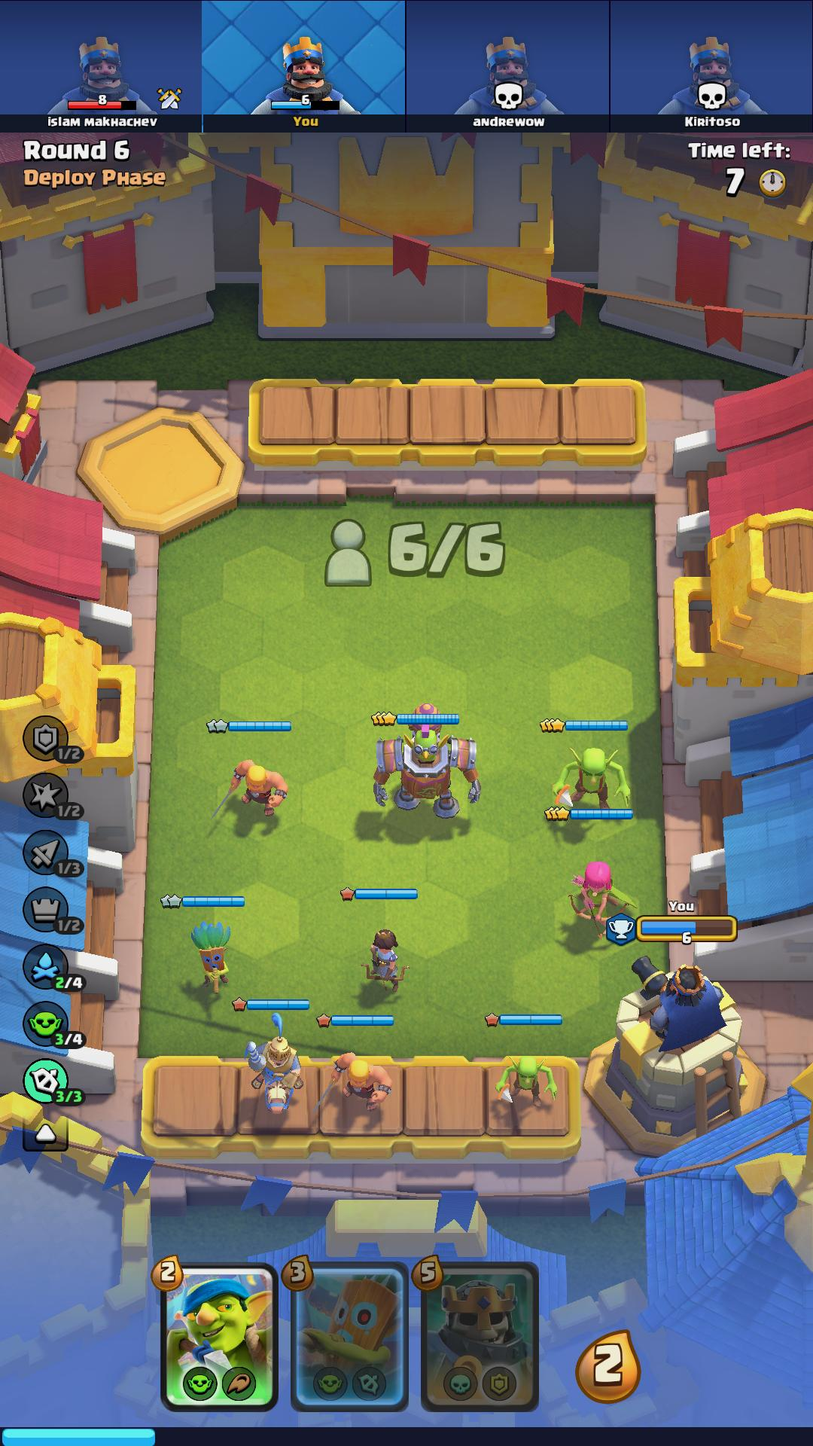archer: (567, 857, 632, 934)
barbarian: (223, 746, 285, 822), (329, 1048, 396, 1116)
dart: (183, 914, 238, 995)
goblin: (546, 737, 633, 812), (489, 1043, 561, 1119)
hand-dart: (289, 1265, 407, 1406)
hand-king: (424, 1264, 537, 1406)
hand-spear: (165, 1271, 271, 1405)
machine: (368, 718, 485, 825)
prince: (244, 1018, 311, 1118)
princess: (364, 923, 406, 999)
